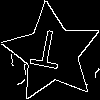T: (27, 28, 66, 79)
